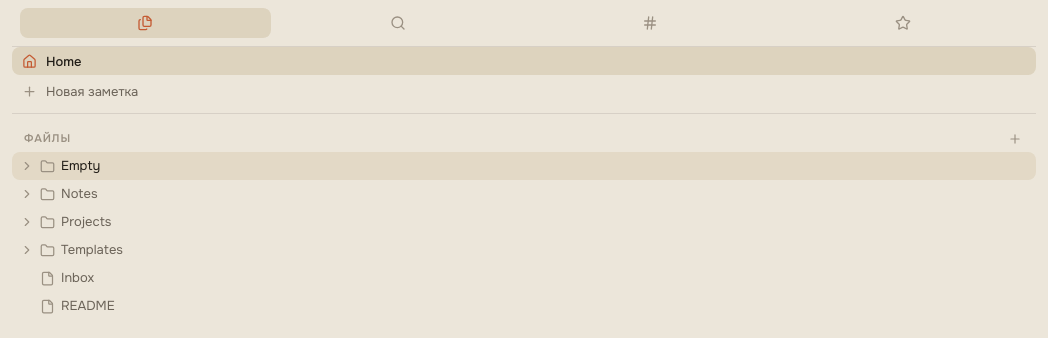
it: Sidebar (Ф0-7 / DP-2) › режим «Везде» → searchContent со сниппетом и подсветкой
Click the tab named "Поиск" at (398, 23), box [272,8,523,38]
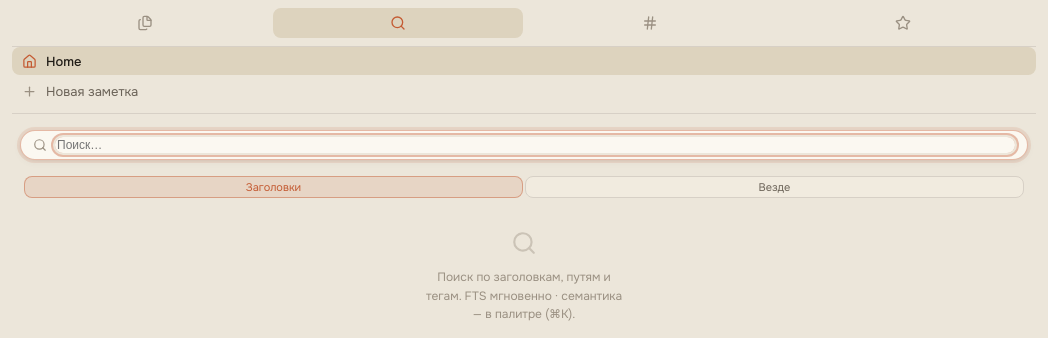
Click the radio button labelled "Везде" at (774, 187), box [525,176,1024,198]
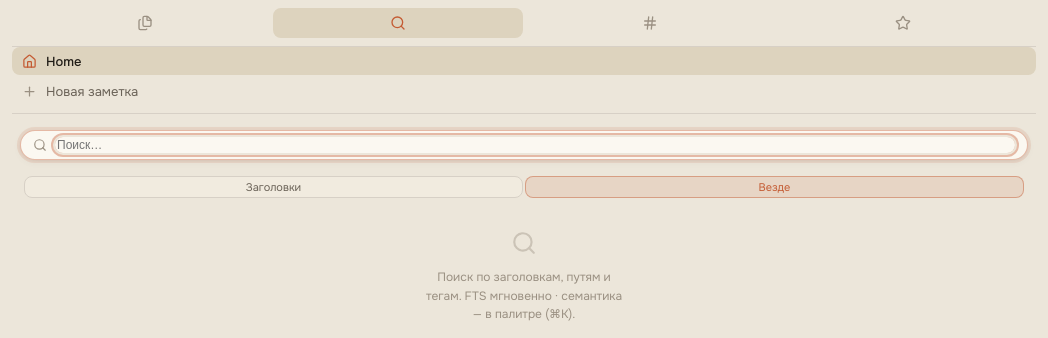
Type "roadmap" into the field named "Поиск по vault" at (535, 145), box [55,137,1015,153]
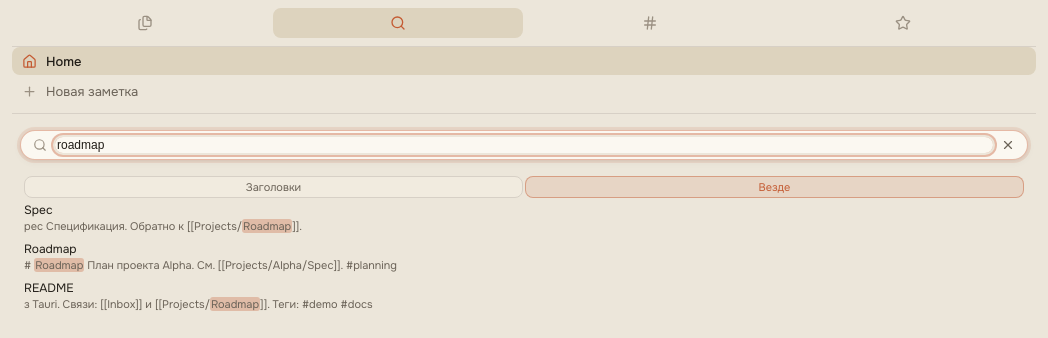
Now the 1st text "Roadmap" is shown, box [242,219,292,233]
